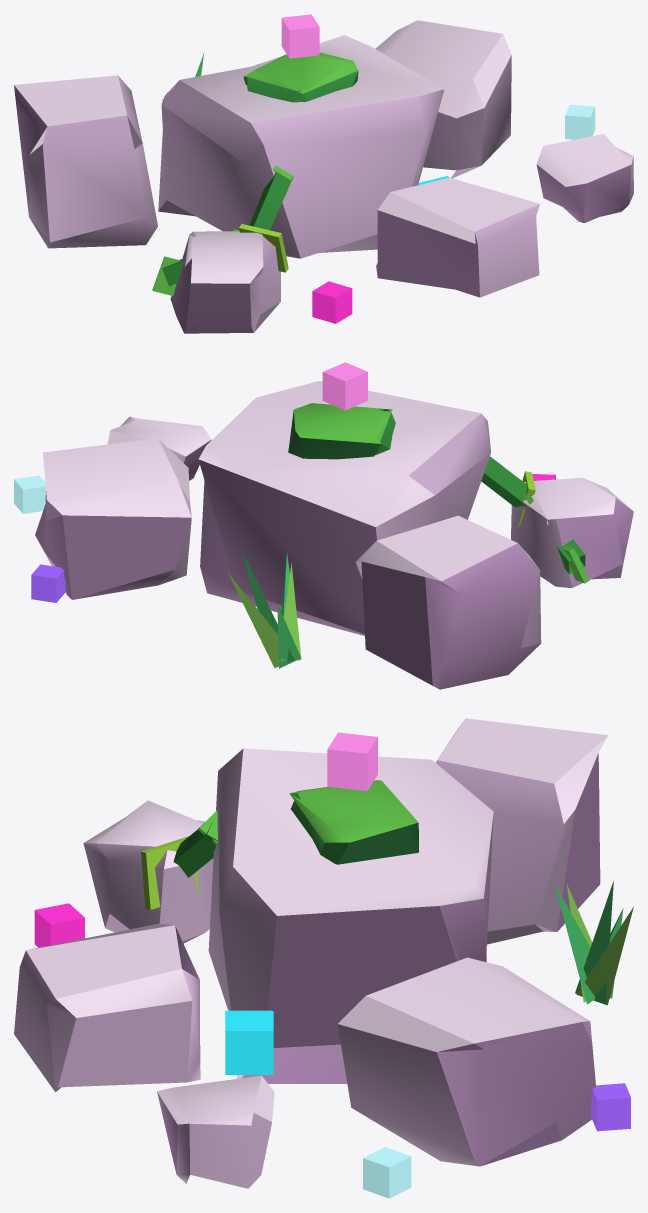
Rendered from me_rubble.glb.
3 renders of one model, top to bottom at view 1: azimuth 30°, elevation 25°; view 2: azimuth 150°, elevation 25°; view 3: azimuth 270°, elevation 25°, orthographic. The views are drawn at different scales.
Parts seen in each view (by area): view 1: me_rubble, fx_glow_px; view 2: me_rubble, fx_glow_px; view 3: me_rubble, fx_glow_px.
Part boxes in pixels (left/top/right/bottom): me_rubble: left=14, top=20, right=633, bottom=333; fx_glow_px: left=281, top=14, right=595, bottom=323; me_rubble: left=35, top=381, right=633, bottom=689; fx_glow_px: left=14, top=362, right=555, bottom=602; me_rubble: left=14, top=718, right=633, bottom=1188; fx_glow_px: left=34, top=732, right=630, bottom=1198.
Size of the model in its own units: 2.39 by 0.9272 by 1.8.
Materials: 2 (2 with a texture image).
